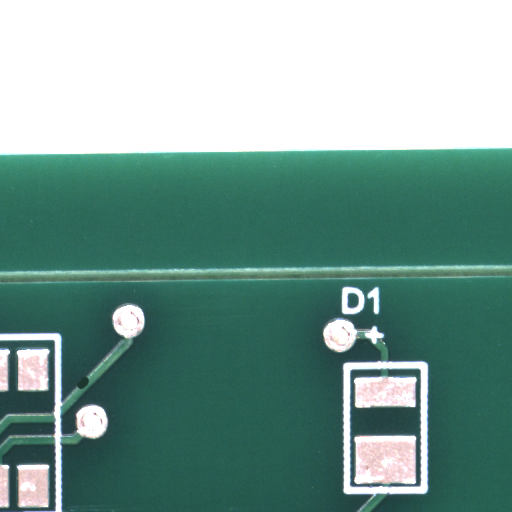Mouse_bite: (82, 383, 94, 396)
